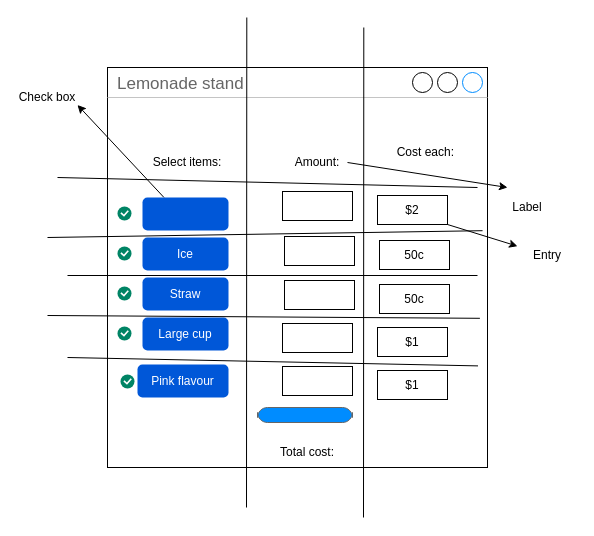
The diagram is 594 pixels wide and 536 high, and some of its shapes have lost their labels. Here are the shapes that lost their labels. From the top down, the box of each, then its label:
(142, 197, 228, 230): Lemonade
(256, 406, 352, 422): Complete Order
